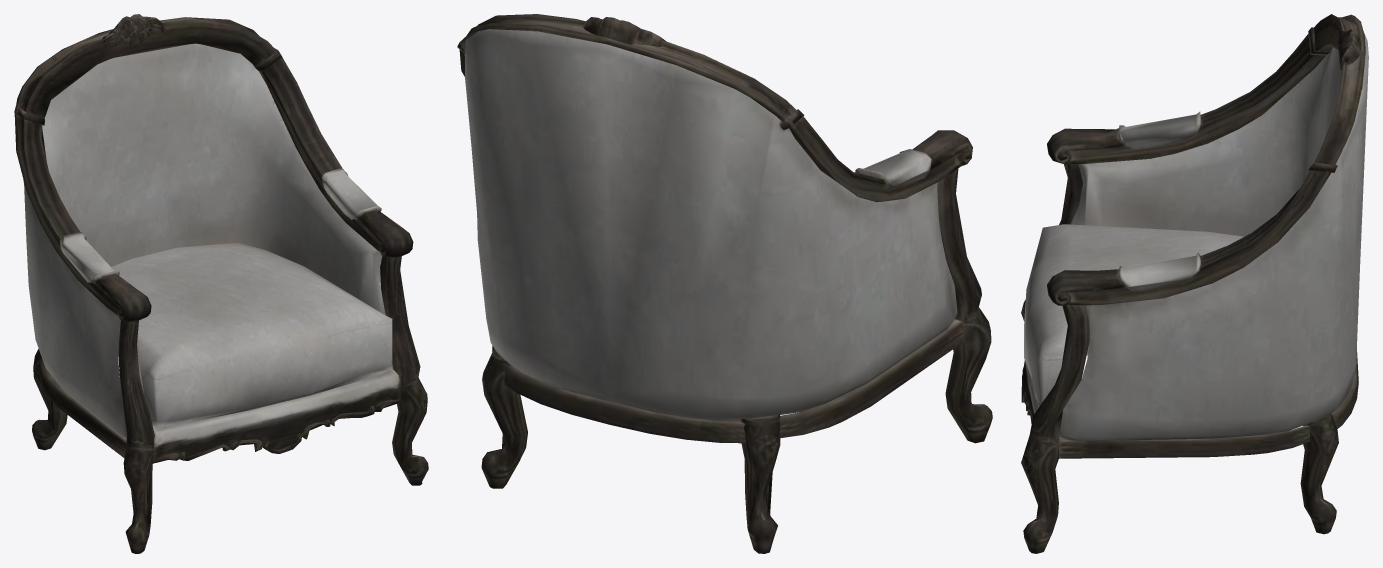
File: ArmChair_01.glb
3 renders of one model, left to right at view 1: azimuth 30°, elevation 25°; view 2: azimuth 150°, elevation 25°; view 3: azimuth 270°, elevation 25°, orthographic. The views are drawn at different scales.
Visible parts, largest first — view 1: ArmChair_01; view 2: ArmChair_01; view 3: ArmChair_01.
Part boxes in pixels (x1,y1,x2,y2): ArmChair_01: (14,14,428,553); ArmChair_01: (457,14,992,553); ArmChair_01: (1021,14,1368,553).
Bounding box in the file's own units: 0.8482 × 1.06 × 0.7619.
1 material, 1 textured.
